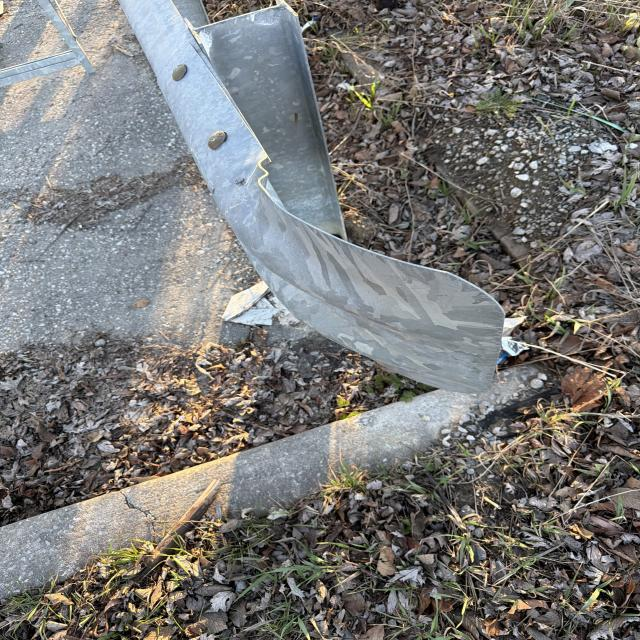Guard rail: (108, 8, 486, 360)
